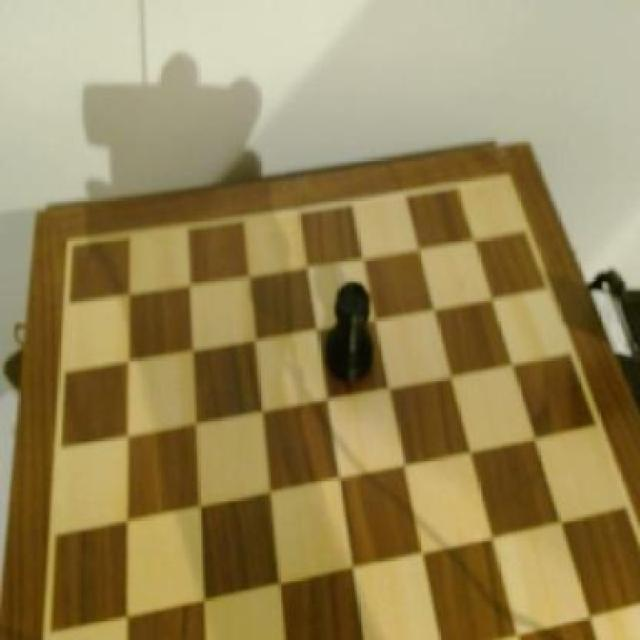black-queen: (326, 278, 380, 391)
